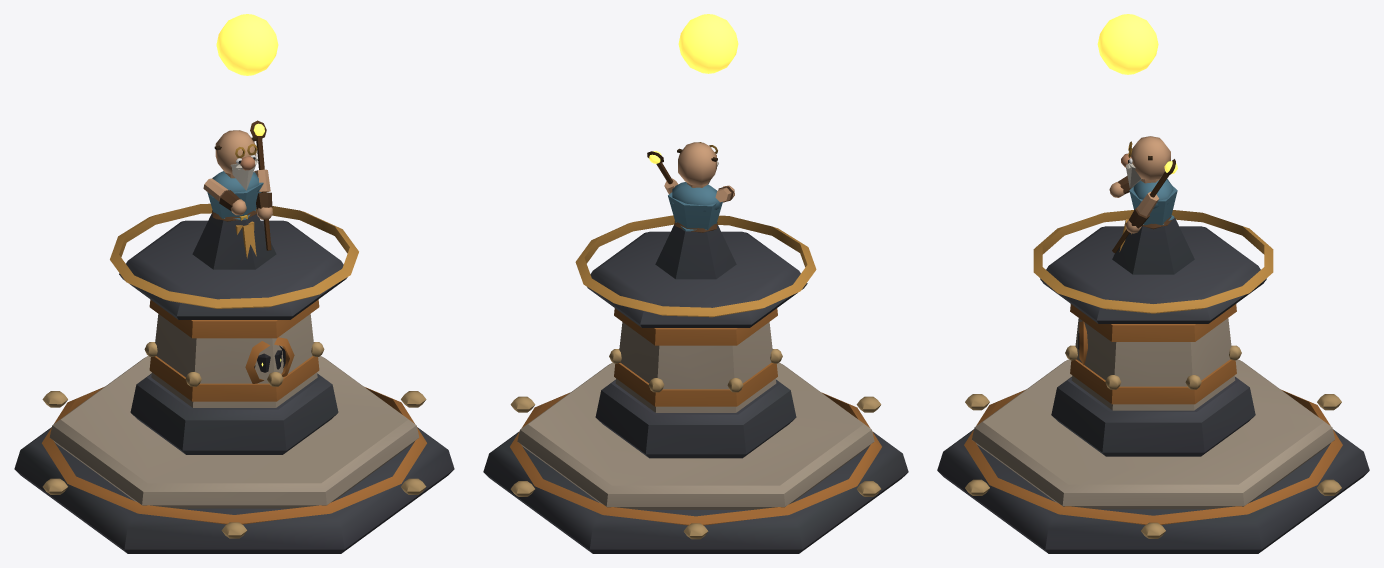
The model's file is nains_5.glb.
The picture shows the model from 3 angles, left to right: view 1: azimuth 30°, elevation 25°; view 2: azimuth 150°, elevation 25°; view 3: azimuth 270°, elevation 25°; orthographic projection. The views are drawn at different scales.
Parts seen in each view (by area): view 1: nains_5_peint, Buste_peint, OrbeMagique, Crane_peint, BrasG_peint, BrasD_peint, Arme_peint; view 2: nains_5_peint, Buste_peint, OrbeMagique, Crane_peint; view 3: nains_5_peint, Buste_peint, OrbeMagique, Crane_peint, BrasD_peint.
Boxes of the visible parts, x1,y1,x2,y2 form: nains_5_peint: (14,203,454,553); Buste_peint: (192,171,276,269); OrbeMagique: (216,14,278,75); Crane_peint: (214,130,258,190); BrasG_peint: (203,178,246,215); BrasD_peint: (254,169,272,219); Arme_peint: (250,120,271,250); nains_5_peint: (483,215,908,553); Buste_peint: (655,182,736,279); OrbeMagique: (678,14,738,73); Crane_peint: (677,142,718,185); nains_5_peint: (937,210,1369,553); Buste_peint: (1112,179,1194,274); OrbeMagique: (1097,14,1158,74); Crane_peint: (1121,136,1170,188); BrasD_peint: (1125,191,1158,233).
Bounding box in the file's own units: 0.8433 × 1 × 0.8517.
